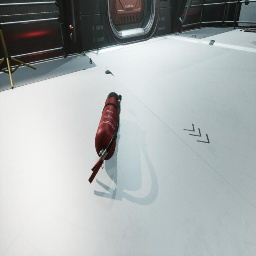FireExtinguisher ]: (88, 92, 122, 184)
